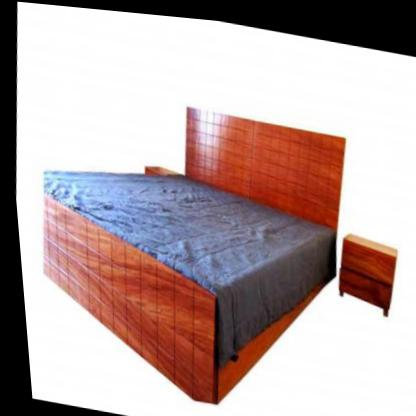Bed: (14, 74, 365, 416)
Nightstand: (329, 225, 399, 309)
